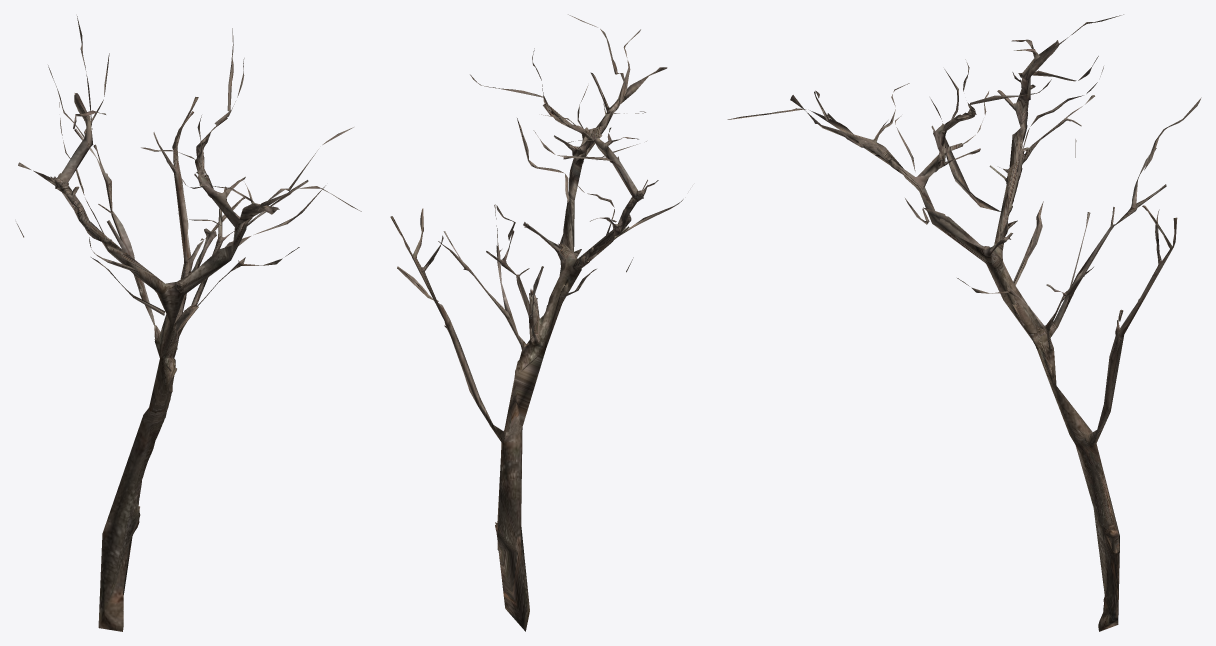
The model's file is arbolpeq_L1_madera.glb.
3 renders of one model, left to right at view 1: azimuth 30°, elevation 25°; view 2: azimuth 150°, elevation 25°; view 3: azimuth 270°, elevation 25°, orthographic. The views are drawn at different scales.
Visible parts, largest first — view 1: tree_small_02_LOD0; view 2: tree_small_02_LOD0; view 3: tree_small_02_LOD0.
Boxes of the visible parts, x1,y1,x2,y2 form: tree_small_02_LOD0: (16,16,361,631); tree_small_02_LOD0: (390,14,683,631); tree_small_02_LOD0: (727,14,1201,631).
Size of the model in its own units: 1.72 by 3.97 by 2.83.
Materials: 2 (2 with a texture image).
